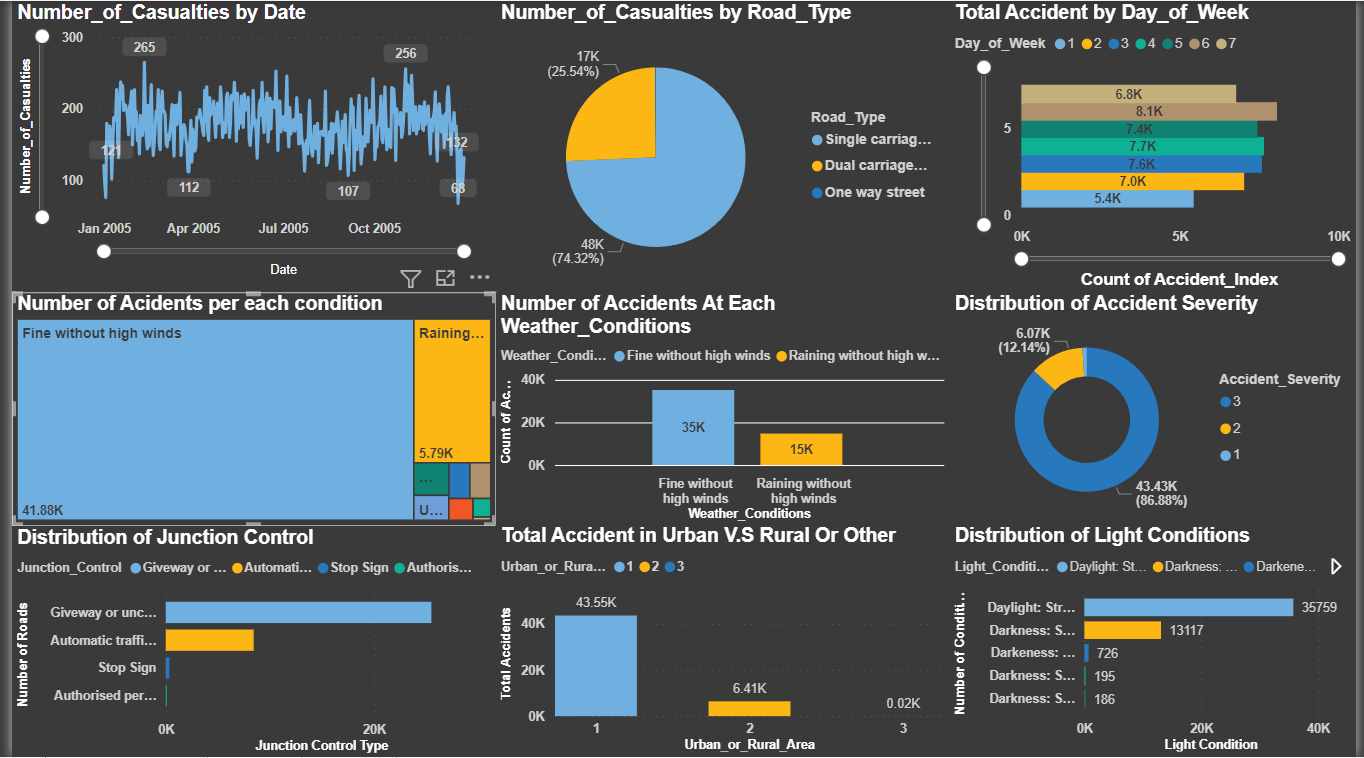

This screenshot's page, from the dashboard's own definition file:
{"tool":"powerbi","page":{"name":"Insights","canvas":[1280,720],"ordinal":1},"visuals":[{"type":"lineChart","fields":{"Category":["Accidents.Date"],"Y":["Sum(Accidents.Number_of_Casualties)"]},"box":[0,0,461,266.2],"z":0},{"type":"treemap","title":"Number of Acidents per each condition","fields":{"Group":["Conditions.Weather_Conditions"],"Values":["CountNonNull(Conditions.Weather_Conditions)"]},"box":[0,277.1,461,222.3],"z":1000},{"type":"pieChart","fields":{"Category":["Roads.Road_Type"],"Y":["Sum(Accidents.Number_of_Casualties)"]},"box":[461,0,432.2,277.1],"z":2000},{"type":"columnChart","title":"Number of Accidents At Each Weather_Conditions ","fields":{"Category":["Conditions.Weather_Conditions"],"Y":["CountNonNull(Accidents.Accident_Index)"],"Series":["Conditions.Weather_Conditions"]},"box":[461,277.1,432.2,222.3],"z":3000},{"type":"barChart","title":"Total Accident by Day_of_Week","fields":{"Category":["Accidents.Day_of_Week"],"Y":["CountNonNull(Accidents.Accident_Index)"],"Series":["Accidents.Day_of_Week"]},"box":[893.1,0,386.9,277.1],"z":4000},{"type":"donutChart","title":"Distribution of Accident Severity","fields":{"Category":["Accidents.Accident_Severity"],"Y":["CountNonNull(Accidents.Accident_Index)"]},"box":[893.1,277.1,386.9,222.3],"z":5000},{"type":"barChart","title":"Distribution of Junction Control","fields":{"Category":["Roads.Junction_Control"],"Series":["Roads.Junction_Control"],"Y":["CountNonNull(Roads.Junction_Control)"]},"box":[0,499.4,461,220.9],"z":6000},{"type":"columnChart","title":"Total Accident in Urban V.S Rural Or Other","fields":{"Category":["Conditions.Urban_or_Rural_Area"],"Series":["Conditions.Urban_or_Rural_Area"],"Y":["CountNonNull(Conditions.Urban_or_Rural_Area)"]},"box":[461,499,432,221],"z":7000},{"type":"barChart","title":"Distribution of Light Conditions","fields":{"Category":["Conditions.Light_Conditions"],"Series":["Conditions.Light_Conditions"],"Y":["CountNonNull(Conditions.Light_Conditions)"]},"box":[893,499,387,221],"z":8000}]}

Visuals, with their boxes in screenshot pixels (x1, y1, x2, y2), scaled from the page's 1280x720 canvas onto the 1364x758 screenshot:
lineChart - Accidents.Date x Sum(Accidents.Number_of_Casualties): (0,0,491,280)
"Number of Acidents per each condition" treemap: (0,292,491,526)
pieChart - Roads.Road_Type x Sum(Accidents.Number_of_Casualties): (491,0,952,292)
"Number of Accidents At Each Weather_Conditions " columnChart: (491,292,952,526)
"Total Accident by Day_of_Week" barChart: (952,0,1363,292)
"Distribution of Accident Severity" donutChart: (952,292,1363,526)
"Distribution of Junction Control" barChart: (0,526,491,757)
"Total Accident in Urban V.S Rural Or Other" columnChart: (491,525,952,757)
"Distribution of Light Conditions" barChart: (952,525,1363,757)
